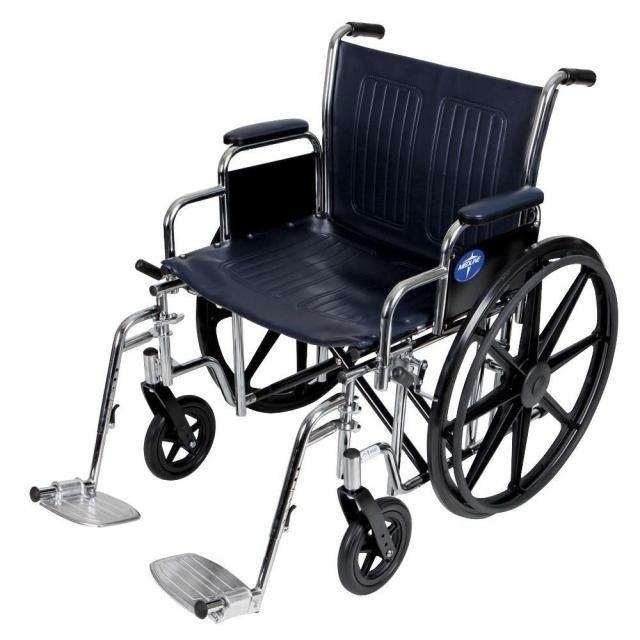wheelchair: (20, 6, 640, 625)
